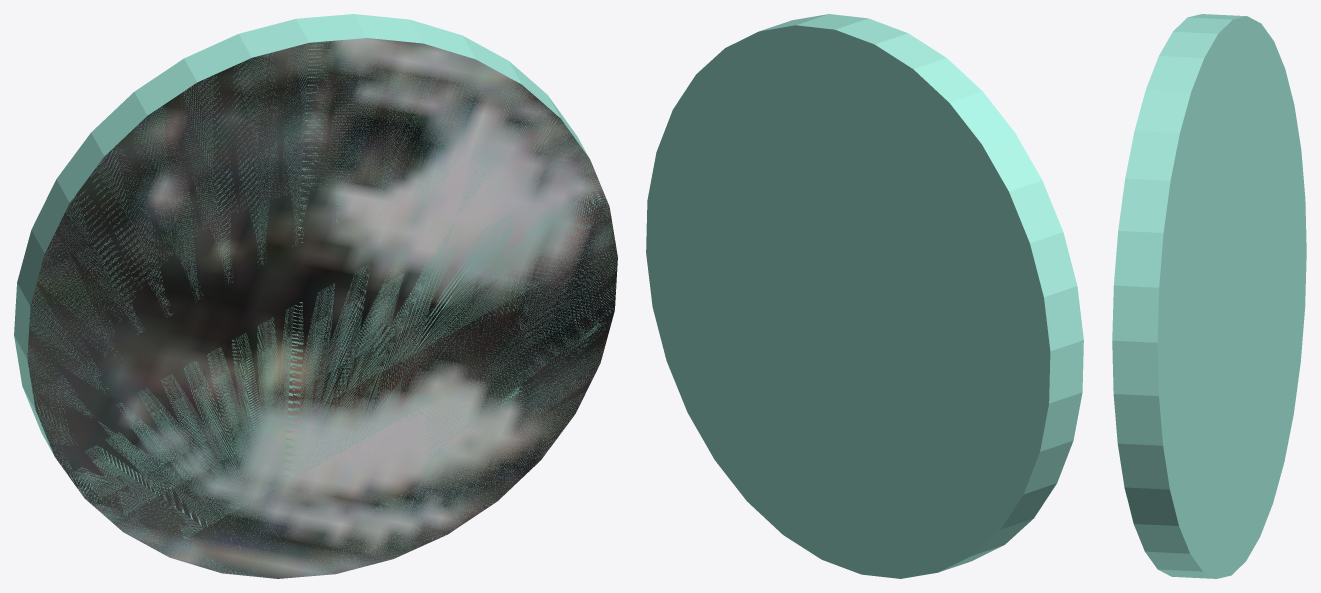
The model's file is SampleCar_01_HB_R.fbx.
3 renders of one model, left to right at view 1: azimuth 30°, elevation 25°; view 2: azimuth 150°, elevation 25°; view 3: azimuth 270°, elevation 25°, orthographic. The views are drawn at different scales.
Parts seen in each view (by area): view 1: lamps_004_LOD0, UTM_lamps_004; view 2: UTM_lamps_004; view 3: UTM_lamps_004.
Part boxes in pixels (<box>): lamps_004_LOD0: <box>27,38,617,578</box>; UTM_lamps_004: <box>14,14,617,577</box>; UTM_lamps_004: <box>646,14,1083,578</box>; UTM_lamps_004: <box>1112,14,1306,578</box>.
Size of the model in its own units: 10.4 by 10.58 by 3.64.
